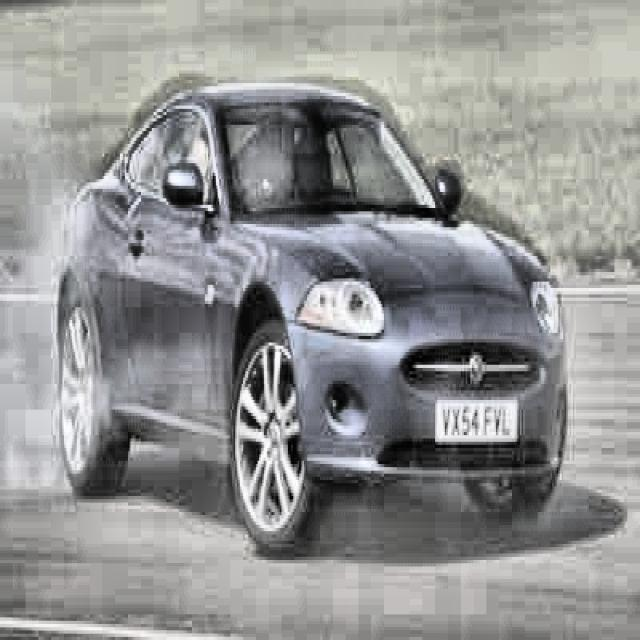license_plate: (437, 400, 516, 442)
